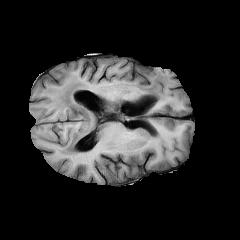glioma: (31, 70, 165, 155)
